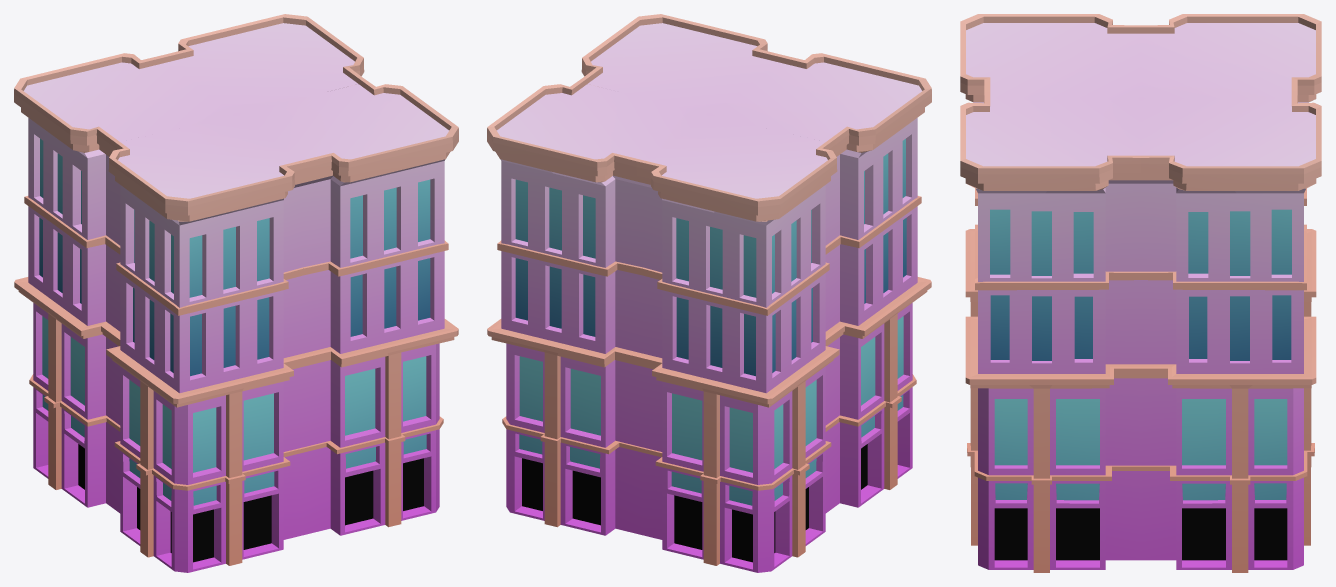
Rendered from liveBuildingPurple.fbx.
3 views of the same model, side by side, from view 1: azimuth 30°, elevation 25°; view 2: azimuth 150°, elevation 25°; view 3: azimuth 270°, elevation 25° (orthographic). The views are drawn at different scales.
Visible parts, largest first — view 1: House.003; view 2: House.003; view 3: House.003.
Part boxes in pixels (left/top/right/bottom): House.003: left=14, top=14, right=458, bottom=572; House.003: left=487, top=14, right=931, bottom=572; House.003: left=960, top=14, right=1321, bottom=572.
Size of the model in its own units: 2119 by 2618 by 2098.
4 materials, 3 textured.
